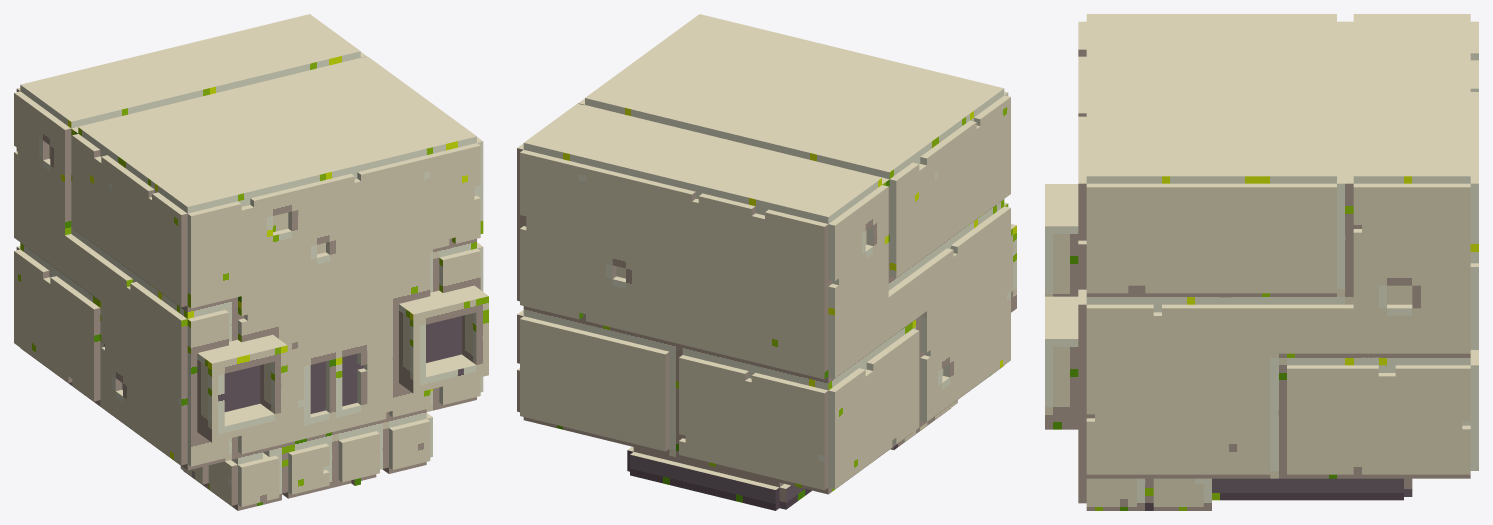
File: deathskull_bao.fezao.glb
3 views of the same model, side by side, from view 1: azimuth 30°, elevation 25°; view 2: azimuth 150°, elevation 25°; view 3: azimuth 270°, elevation 25° (orthographic). The views are drawn at different scales.
Parts seen in each view (by area): view 1: DEATHSKULL_BAO; view 2: DEATHSKULL_BAO; view 3: DEATHSKULL_BAO.
Boxes of the visible parts, box(x1,y1,x2,y2) form: DEATHSKULL_BAO: box(14, 14, 488, 510); DEATHSKULL_BAO: box(517, 14, 1016, 510); DEATHSKULL_BAO: box(1045, 14, 1478, 510).
Size of the model in its own units: 3 by 3 by 3.25.
Materials: 1 (1 with a texture image).
